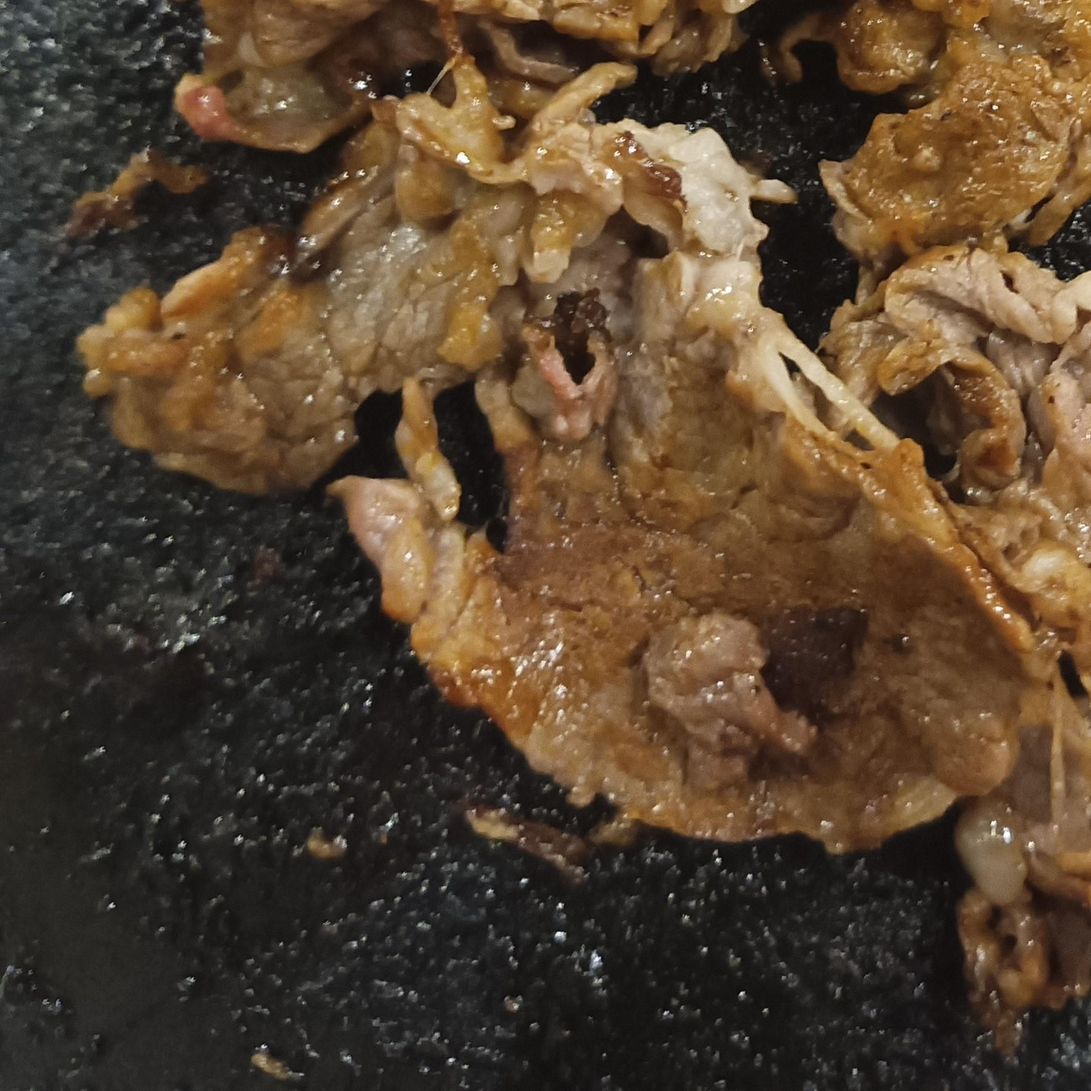Overcooked: (67, 0, 1090, 1029)
